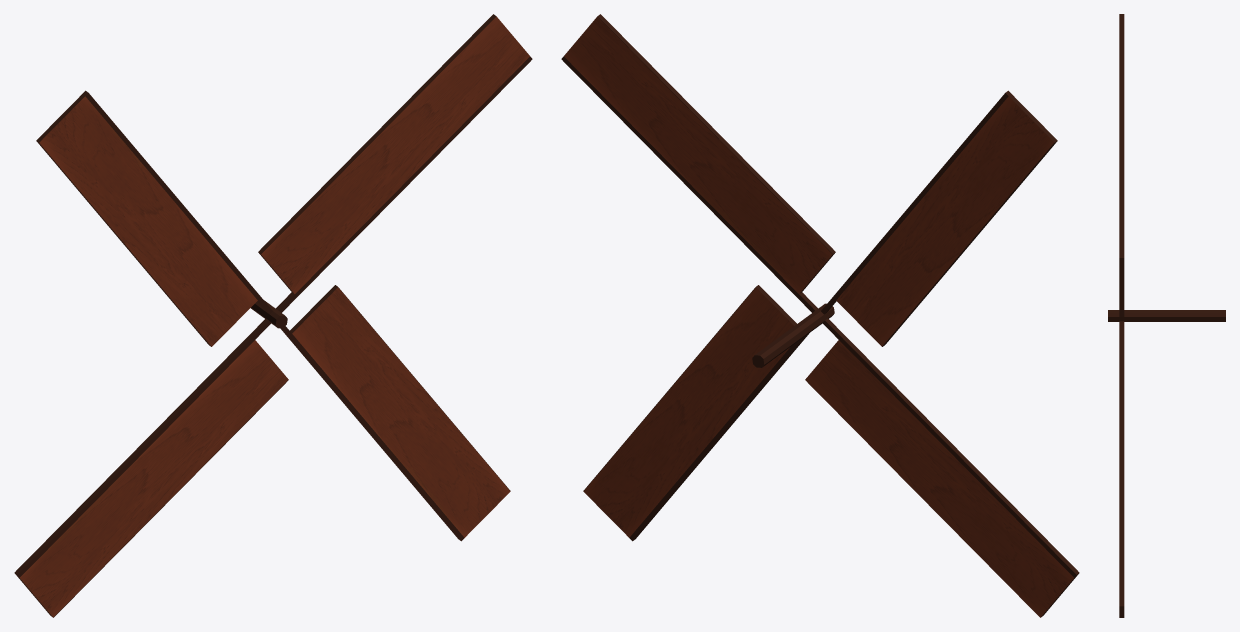
File: windmillblades.fbx
3 views of the same model, side by side, from view 1: azimuth 30°, elevation 25°; view 2: azimuth 150°, elevation 25°; view 3: azimuth 270°, elevation 25° (orthographic). The views are drawn at different scales.
Parts seen in each view (by area): view 1: windmillblades; view 2: windmillblades; view 3: windmillblades.
Boxes of the visible parts, x1,y1,x2,y2 form: windmillblades: [14, 14, 532, 617]; windmillblades: [561, 14, 1079, 617]; windmillblades: [1108, 14, 1225, 617].
Bounding box in the file's own units: 895 × 895 × 212.
